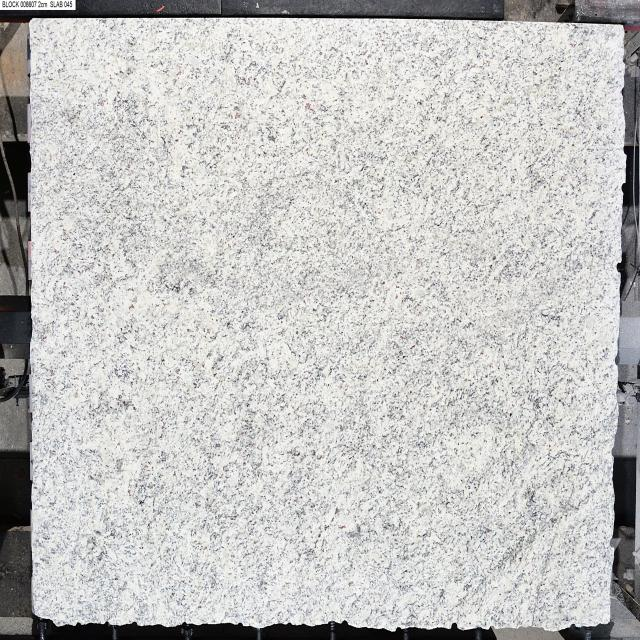chapa: (30, 20, 625, 630)
veio: (615, 258, 623, 275), (450, 620, 460, 632), (621, 179, 627, 196)
